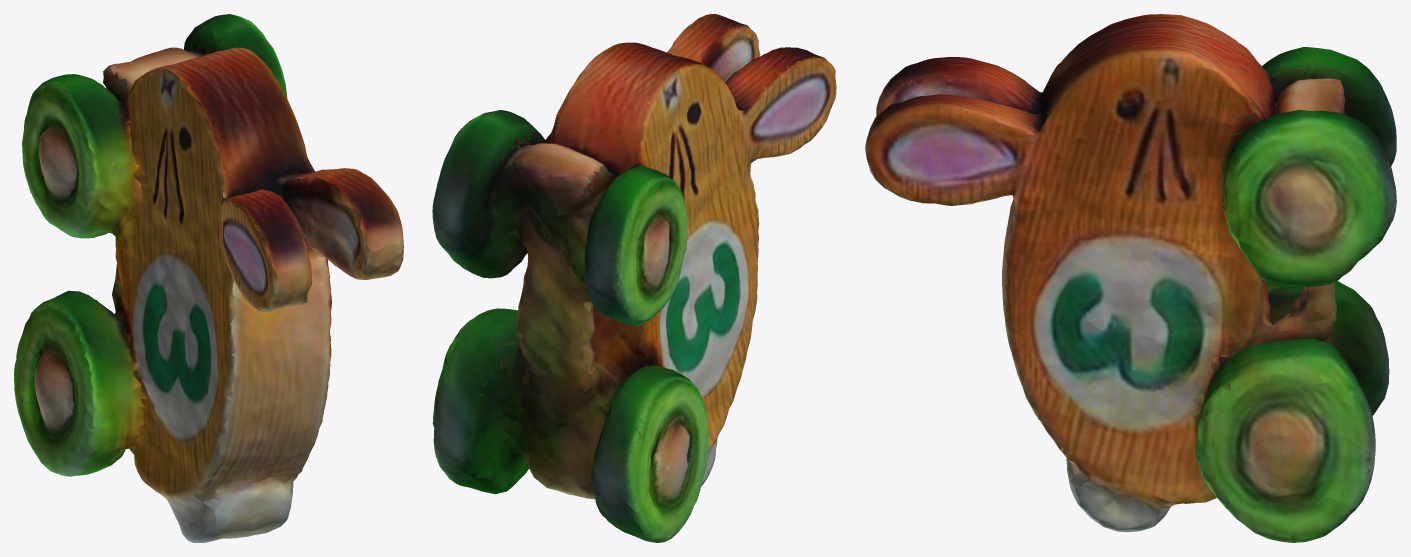
The model's file is bunny_racer.glb.
3 renders of one model, left to right at view 1: azimuth 30°, elevation 25°; view 2: azimuth 150°, elevation 25°; view 3: azimuth 270°, elevation 25°, orthographic. The views are drawn at different scales.
Visible parts, largest first — view 1: world.010; view 2: world.010; view 3: world.010.
Boxes of the visible parts, x1,y1,x2,y2 form: world.010: (14, 14, 403, 542); world.010: (432, 14, 836, 542); world.010: (865, 14, 1396, 542).
Size of the model in its own units: 0.49 by 0.9157 by 0.903.
Materials: 1 (1 with a texture image).
